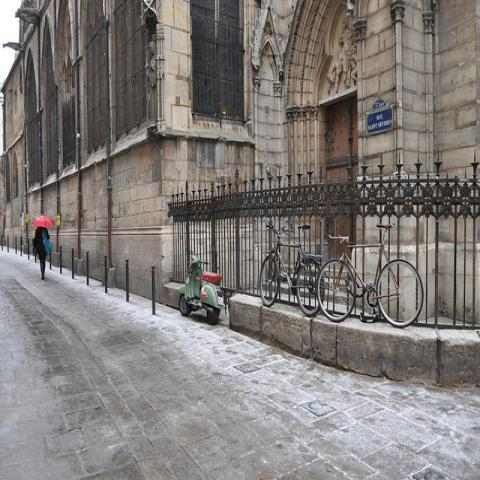motorcycle: (178, 255, 224, 324)
